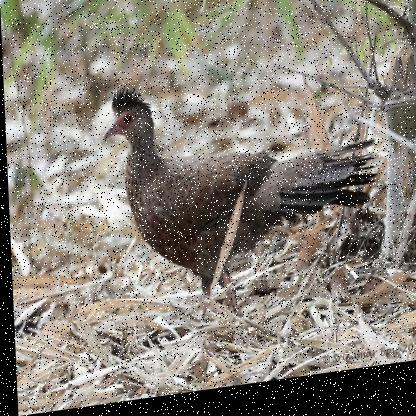Burung: (98, 67, 374, 327)
